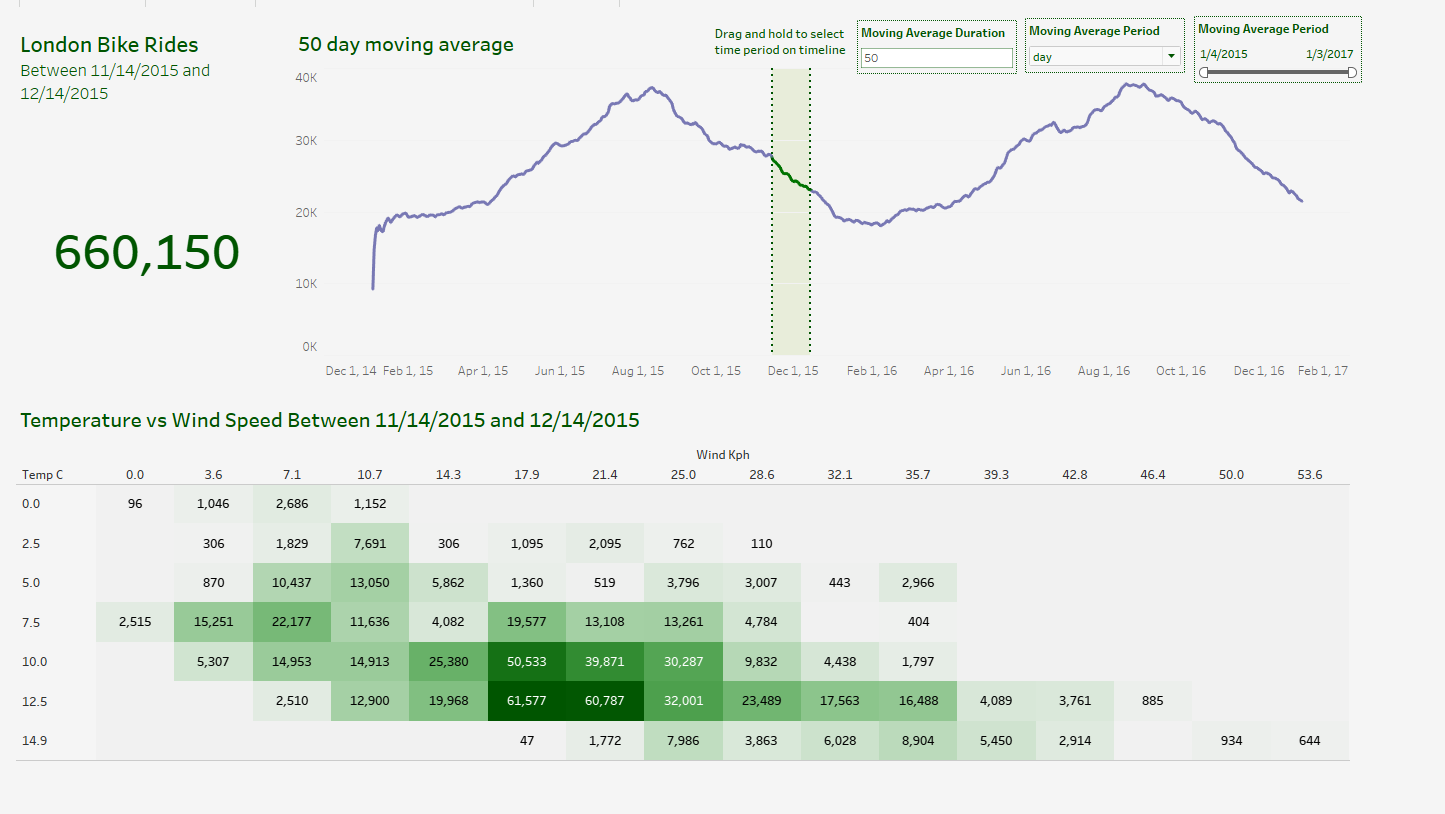

The dashboard page shown, as its layout file describes it:
{"tool":"tableau","page":{"name":"Dashboard 1","canvas":[1366,768],"ordinal":0},"visuals":[{"type":"filter","title":"MovingAverage","param":"[federated.02smdba1jrxsht18l0e3j1uzi1r4].[none:Calculation_1575415503129722883:q","box":[1194,7,168,67]},{"type":"worksheet","title":"TotalRides","mark":"Automatic","box":[8,8,278,376]},{"type":"worksheet","title":"MovingAverage","mark":"Automatic","rows":["Calculation1"],"cols":["Calculation_1575415503129722883"],"box":[286,8,1072,376]},{"type":"parameter","param":"[Parameters].[Parameter 1]","box":[1025,9,160,55]},{"type":"parameter","param":"[Parameters].[Parameter 2]","box":[857,11,160,54]},{"type":"text","box":[712,16,137,34]},{"type":"worksheet","title":"HeatMap","mark":"Square","rows":["temp real C (bin)"],"cols":["Wind Speed Kph (bin)"],"box":[8,384,1350,376]}]}

Visuals, with their boxes in screenshot pixels (x1, y1, x2, y2), scaled from the page's 1366x768 canvas onto the 1445x814 screenshot:
"MovingAverage" filter: <box>1263,7,1441,78</box>
"TotalRides" worksheet: <box>8,8,303,407</box>
"MovingAverage" worksheet: <box>303,8,1437,407</box>
parameter: <box>1084,10,1254,68</box>
parameter: <box>907,12,1076,69</box>
text: <box>753,17,898,53</box>
"HeatMap" worksheet (Square marks): <box>8,407,1437,806</box>
